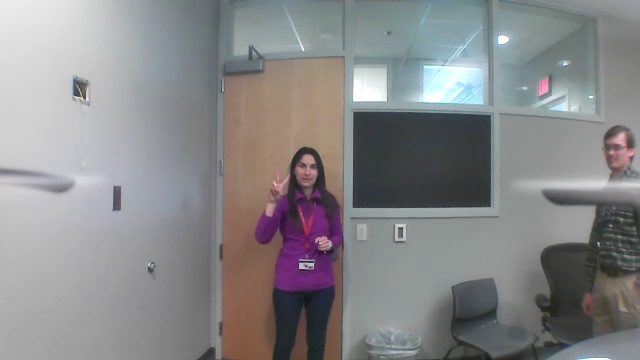peace: (268, 165, 293, 199)
